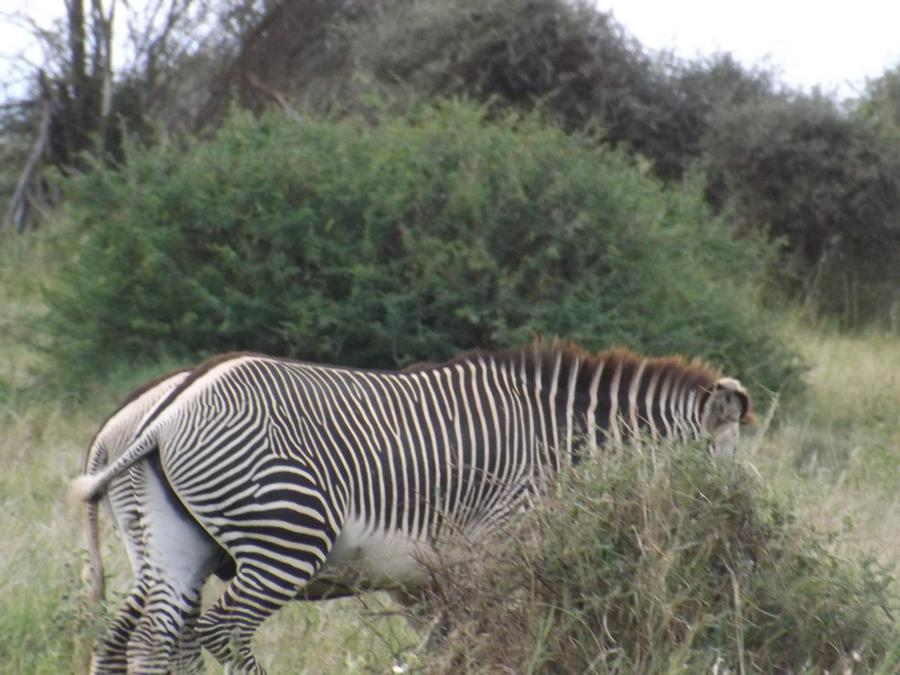zebra_grevys: (128, 351, 561, 542)
